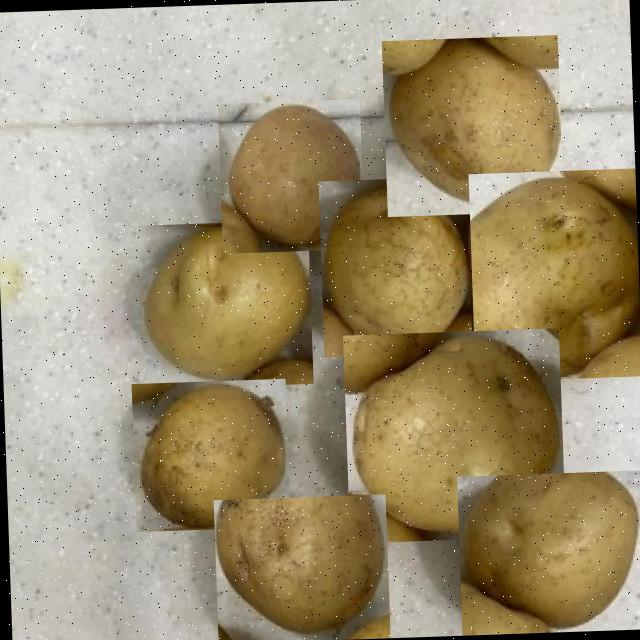Potato: (342, 327, 564, 542), (467, 167, 640, 381), (380, 34, 562, 215), (455, 469, 640, 635), (136, 218, 312, 388), (317, 175, 471, 356), (212, 493, 389, 640), (130, 378, 289, 530), (216, 98, 364, 252)
